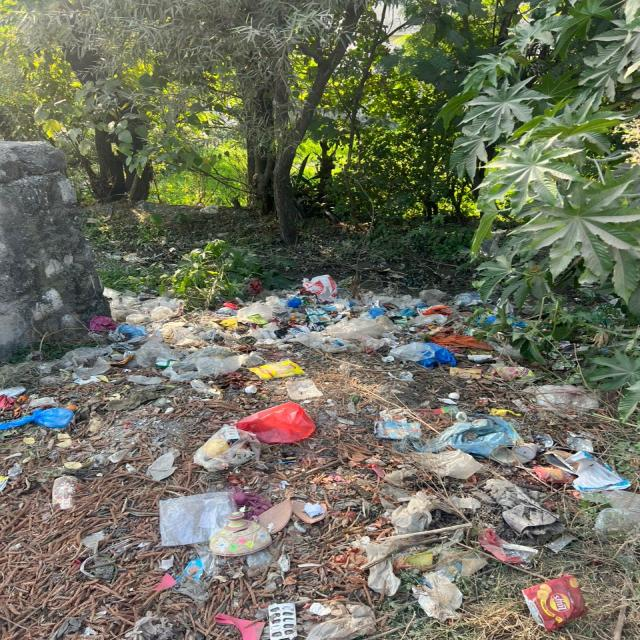garbage: (8, 275, 610, 630)
